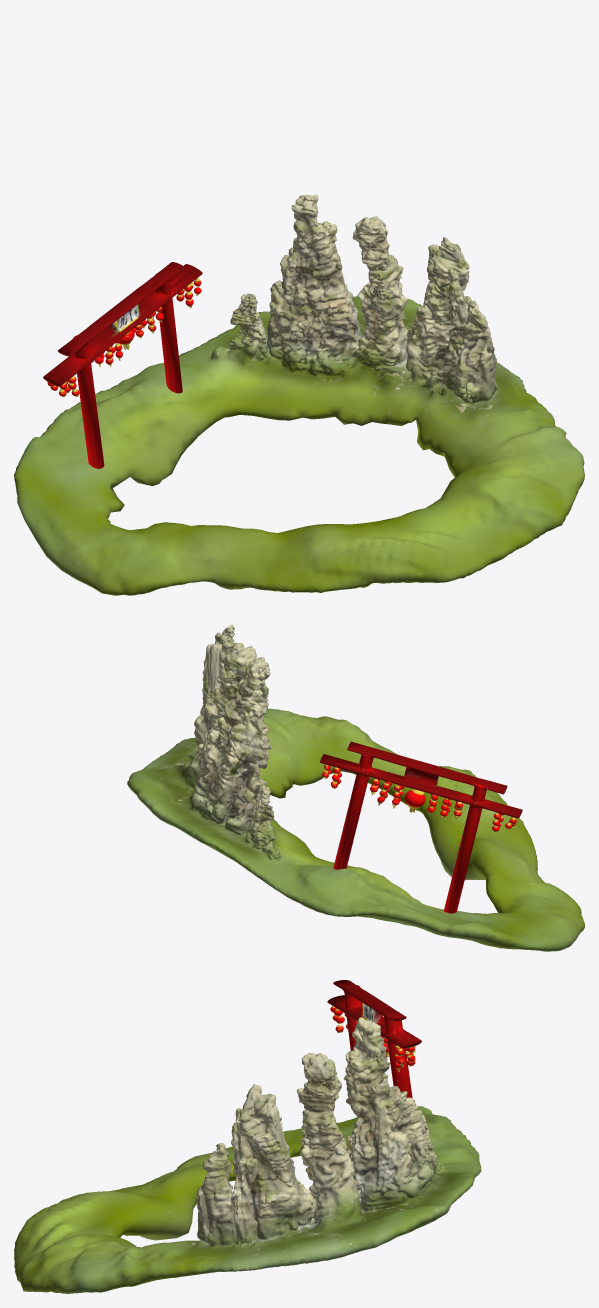
The model's file is 05-longmen.fbx.
The picture shows the model from 3 angles, top to bottom: view 1: azimuth 30°, elevation 25°; view 2: azimuth 150°, elevation 25°; view 3: azimuth 270°, elevation 25°; orthographic projection. The views are drawn at different scales.
Visible parts, largest first — view 1: 环形体_001.pm, 圆柱体_002.pm; view 2: 环形体_001.pm, 圆柱体_002.pm; view 3: 环形体_001.pm, 圆柱体_002.pm.
Boxes of the visible parts, left/top/right/bottom form: 环形体_001.pm: left=14, top=194, right=584, bottom=595; 圆柱体_002.pm: left=43, top=262, right=202, bottom=468; 环形体_001.pm: left=127, top=624, right=584, bottom=951; 圆柱体_002.pm: left=319, top=741, right=522, bottom=913; 环形体_001.pm: left=14, top=1017, right=481, bottom=1293; 圆柱体_002.pm: left=327, top=980, right=421, bottom=1098.
Size of the model in its own units: 19111 by 11975 by 17861.
Materials: 2 (2 with a texture image).
